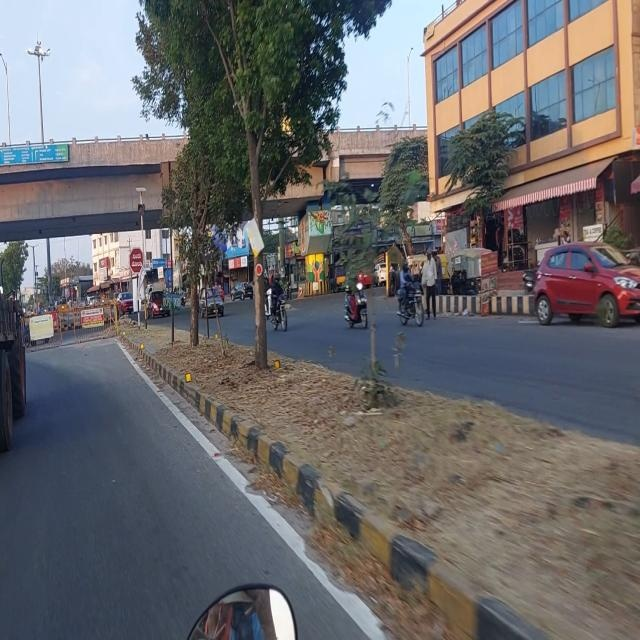bien_chi_dan: (130, 246, 144, 275)
